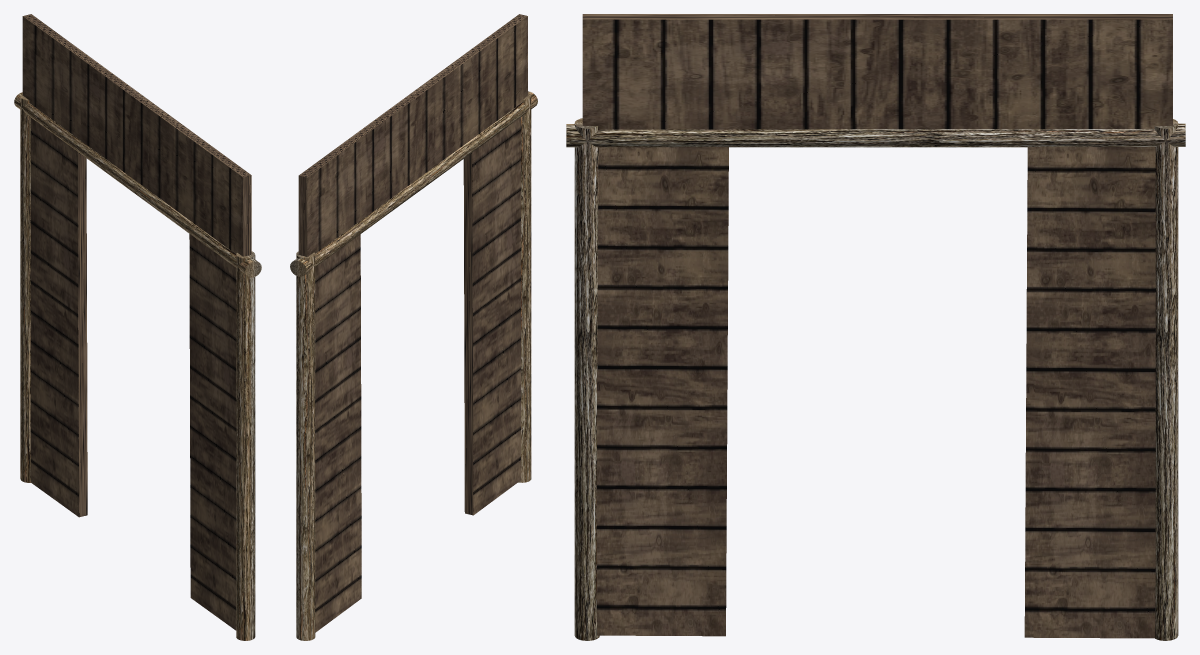
File: wood door wall.gltf
3 views of the same model, side by side, from view 1: azimuth 30°, elevation 25°; view 2: azimuth 150°, elevation 25°; view 3: azimuth 270°, elevation 25° (orthographic). The views are drawn at different scales.
Parts seen in each view (by area): view 1: Küp (×3), Silindir2, Silindir1, Silindir3; view 2: Küp (×3), Silindir1, Silindir2, Silindir3; view 3: Küp (×3), Silindir1, Silindir2, Silindir3.
Part boxes in pixels (x1,y1,x2,y2): Küp (×3): (22, 14, 251, 630); Silindir2: (236, 251, 255, 640); Silindir1: (20, 94, 30, 482); Silindir3: (14, 92, 261, 277); Küp (×3): (298, 14, 527, 632); Silindir1: (296, 251, 315, 640); Silindir2: (518, 93, 531, 482); Silindir3: (290, 91, 537, 276); Küp (×3): (582, 14, 1172, 638); Silindir1: (1154, 119, 1178, 640); Silindir2: (574, 118, 599, 640); Silindir3: (566, 123, 1185, 147).
Size of the model in its own units: 0.0866 by 2.32 by 2.1.
Materials: 7 (7 with a texture image).
